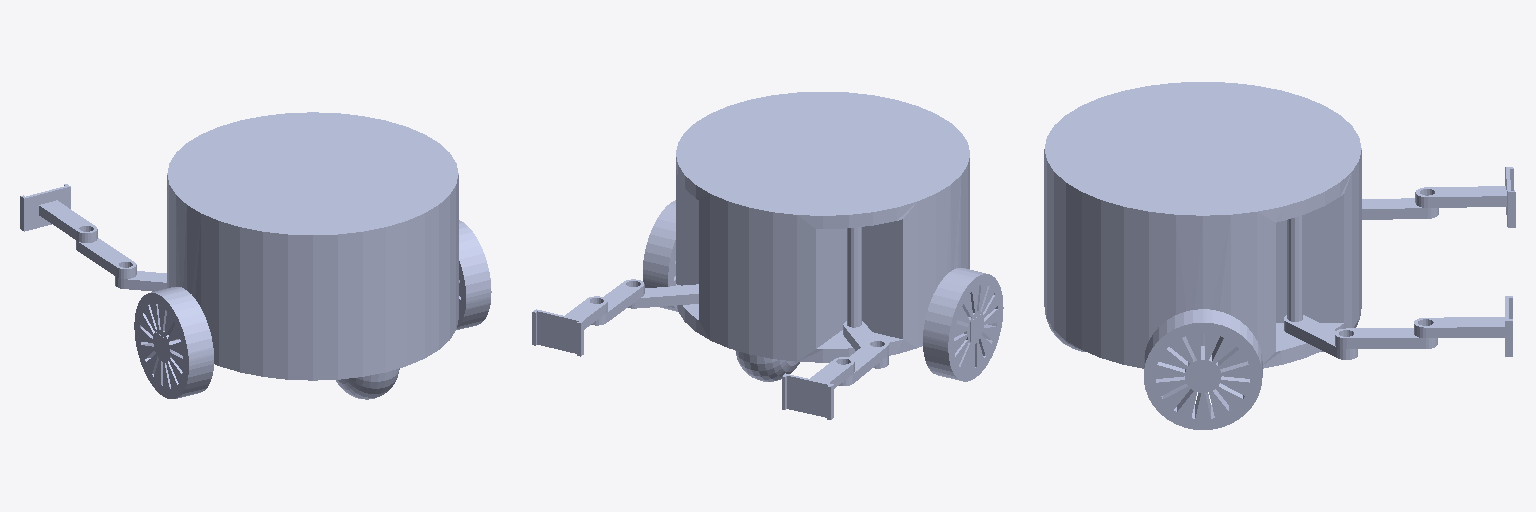
robot.urdf — URDF_bot_final_2:
<?xml version="1.0" encoding="utf-8"?>
<!-- This URDF was automatically created by SolidWorks to URDF Exporter! Originally created by [author] ([email redacted]) 
     Commit Version: 1.6.0-4-g7f85cfe  Build Version: 1.6.7995.38578
     For more information, please see http://wiki.ros.org/sw_urdf_exporter -->
<robot
  name="URDF_bot_final_2">
  <link
    name="base_link">
    <inertial>
      <origin
        xyz="8.60422844084496E-16 -0.00697001255399204 -0.113640401660277"
        rpy="0 0 0" />
      <mass
        value="26.8879845162854" />
      <inertia
        ixx="0.385139507707689"
        ixy="-3.51992200976601E-16"
        ixz="-9.6673037334202E-16"
        iyy="0.376289539605871"
        iyz="0.000682246181241517"
        izz="0.521493886642275" />
    </inertial>
    <visual>
      <origin
        xyz="0 0 0"
        rpy="0 0 0" />
      <geometry>
        <mesh
          filename="package://URDF_bot_final_2/meshes/base_link.STL" />
      </geometry>
      <material
        name="">
        <color
          rgba="0.792156862745098 0.819607843137255 0.933333333333333 1" />
      </material>
    </visual>
    <collision>
      <origin
        xyz="0 0 0"
        rpy="0 0 0" />
      <geometry>
        <mesh
          filename="package://URDF_bot_final_2/meshes/base_link.STL" />
      </geometry>
    </collision>
  </link>
  <link
    name="W_L">
    <inertial>
      <origin
        xyz="-1.11022302462516E-15 0.0202816466241088 5.55111512312578E-17"
        rpy="0 0 0" />
      <mass
        value="0.56046012382194" />
      <inertia
        ixx="0.000964865107374987"
        ixy="2.80987895356466E-18"
        ixz="-1.1664625765267E-19"
        iyy="0.00178033491000625"
        iyz="5.96074138738194E-19"
        izz="0.000964925835650445" />
    </inertial>
    <visual>
      <origin
        xyz="0 0 0"
        rpy="0 0 0" />
      <geometry>
        <mesh
          filename="package://URDF_bot_final_2/meshes/W_L.STL" />
      </geometry>
      <material
        name="">
        <color
          rgba="0.792156862745098 0.819607843137255 0.933333333333333 1" />
      </material>
    </visual>
    <collision>
      <origin
        xyz="0 0 0"
        rpy="0 0 0" />
      <geometry>
        <mesh
          filename="package://URDF_bot_final_2/meshes/W_L.STL" />
      </geometry>
    </collision>
  </link>
  <joint
    name="W_L_link"
    type="continuous">
    <origin
      xyz="-0.239999999999999 0 -0.205000000000002"
      rpy="-3.14159265358979 0 1.5707963267949" />
    <parent
      link="base_link" />
    <child
      link="W_L" />
    <axis
      xyz="0 1 0" />
  </joint>
  <link
    name="W_R">
    <inertial>
      <origin
        xyz="-5.55111512312578E-17 -0.0202816466241043 -4.16333634234434E-16"
        rpy="0 0 0" />
      <mass
        value="0.56046012382194" />
      <inertia
        ixx="0.000964865107374987"
        ixy="-3.09970833166368E-18"
        ixz="7.88018780428268E-20"
        iyy="0.00178033491000625"
        iyz="-1.25295594502704E-17"
        izz="0.000964925835650445" />
    </inertial>
    <visual>
      <origin
        xyz="0 0 0"
        rpy="0 0 0" />
      <geometry>
        <mesh
          filename="package://URDF_bot_final_2/meshes/W_R.STL" />
      </geometry>
      <material
        name="">
        <color
          rgba="0.792156862745098 0.819607843137255 0.933333333333333 1" />
      </material>
    </visual>
    <collision>
      <origin
        xyz="0 0 0"
        rpy="0 0 0" />
      <geometry>
        <mesh
          filename="package://URDF_bot_final_2/meshes/W_R.STL" />
      </geometry>
    </collision>
  </link>
  <joint
    name="W_R_link"
    type="continuous">
    <origin
      xyz="0.240000000000001 0 -0.204999999999999"
      rpy="-3.14159265358979 0 1.5707963267949" />
    <parent
      link="base_link" />
    <child
      link="W_R" />
    <axis
      xyz="0 -1 0" />
  </joint>
  <link
    name="P1_R">
    <inertial>
      <origin
        xyz="0.0074999999999997 0 0"
        rpy="0 0 0" />
      <mass
        value="0.0461780972450962" />
      <inertia
        ixx="5.12918276753618E-05"
        ixy="-1.24143784260085E-19"
        ixz="1.05369012081565E-20"
        iyy="4.60163160465626E-06"
        iyz="-4.44692297308508E-20"
        izz="4.84218747173967E-05" />
    </inertial>
    <visual>
      <origin
        xyz="0 0 0"
        rpy="0 0 0" />
      <geometry>
        <mesh
          filename="package://URDF_bot_final_2/meshes/P1_R.STL" />
      </geometry>
      <material
        name="">
        <color
          rgba="0.792156862745098 0.819607843137255 0.933333333333333 1" />
      </material>
    </visual>
    <collision>
      <origin
        xyz="0 0 0"
        rpy="0 0 0" />
      <geometry>
        <mesh
          filename="package://URDF_bot_final_2/meshes/P1_R.STL" />
      </geometry>
    </collision>
  </link>
  <joint
    name="P1_R_Link"
    type="prismatic">
    <origin
      xyz="0.154649736298411 0.148648533555594 -0.182094440280863"
      rpy="0.870370202775625 1.5707963267949 0" />
    <parent
      link="base_link" />
    <child
      link="P1_R" />
    <axis
      xyz="-1 0 0" />
    <limit
      lower="0"
      upper="0.15"
      effort="0"
      velocity="0" />
  </joint>
  <link
    name="R1_R">
    <inertial>
      <origin
        xyz="0.00750000000000009 0.05 5.55111512312578E-17"
        rpy="0 0 0" />
      <mass
        value="0.0461780972450962" />
      <inertia
        ixx="5.12918276753618E-05"
        ixy="1.7461282703913E-19"
        ixz="2.56580136426819E-21"
        iyy="4.60163160465626E-06"
        iyz="-1.0068607852118E-19"
        izz="4.84218747173967E-05" />
    </inertial>
    <visual>
      <origin
        xyz="0 0 0"
        rpy="0 0 0" />
      <geometry>
        <mesh
          filename="package://URDF_bot_final_2/meshes/R1_R.STL" />
      </geometry>
      <material
        name="">
        <color
          rgba="0.792156862745098 0.819607843137255 0.933333333333333 1" />
      </material>
    </visual>
    <collision>
      <origin
        xyz="0 0 0"
        rpy="0 0 0" />
      <geometry>
        <mesh
          filename="package://URDF_bot_final_2/meshes/R1_R.STL" />
      </geometry>
    </collision>
  </link>
  <joint
    name="R1_R_J"
    type="revolute">
    <origin
      xyz="0 0.0500000000000001 0"
      rpy="-2.26886705484522 0 3.14159265358979" />
    <parent
      link="P1_R" />
    <child
      link="R1_R" />
    <axis
      xyz="1 0 0" />
    <limit
      lower="-1.57"
      upper="0.78"
      effort="0"
      velocity="0" />
  </joint>
  <link
    name="R2_R">
    <inertial>
      <origin
        xyz="0.0231462742976176 -0.0659326410357274 0.000249370283456174"
        rpy="0 0 0" />
      <mass
        value="0.0668390486225481" />
      <inertia
        ixx="0.000100971656034691"
        ixy="1.60498639595143E-06"
        ixz="-2.3109653704175E-08"
        iyy="2.07628535797184E-05"
        iyz="6.19297276668896E-07"
        izz="9.08923415643615E-05" />
    </inertial>
    <visual>
      <origin
        xyz="0 0 0"
        rpy="0 0 0" />
      <geometry>
        <mesh
          filename="package://URDF_bot_final_2/meshes/R2_R.STL" />
      </geometry>
      <material
        name="">
        <color
          rgba="0.792156862745098 0.819607843137255 0.933333333333333 1" />
      </material>
    </visual>
    <collision>
      <origin
        xyz="0 0 0"
        rpy="0 0 0" />
      <geometry>
        <mesh
          filename="package://URDF_bot_final_2/meshes/R2_R.STL" />
      </geometry>
    </collision>
  </link>
  <joint
    name="R2_R_J"
    type="revolute">
    <origin
      xyz="0 0.1 0"
      rpy="-3.13374920384741 0 0" />
    <parent
      link="R1_R" />
    <child
      link="R2_R" />
    <axis
      xyz="1 0 0" />
    <limit
      lower="-0.52"
      upper="0.52"
      effort="0"
      velocity="0" />
  </joint>
  <link
    name="P2_L">
    <inertial>
      <origin
        xyz="0.00749999999999984 5.55111512312578E-17 2.77555756156289E-17"
        rpy="0 0 0" />
      <mass
        value="0.0461780972450962" />
      <inertia
        ixx="5.12918276753618E-05"
        ixy="9.29088277330331E-20"
        ixz="8.06265920000474E-21"
        iyy="4.60163160465626E-06"
        iyz="1.56701095242046E-20"
        izz="4.84218747173967E-05" />
    </inertial>
    <visual>
      <origin
        xyz="0 0 0"
        rpy="0 0 0" />
      <geometry>
        <mesh
          filename="package://URDF_bot_final_2/meshes/P2_L.STL" />
      </geometry>
      <material
        name="">
        <color
          rgba="0.792156862745098 0.819607843137255 0.933333333333333 1" />
      </material>
    </visual>
    <collision>
      <origin
        xyz="0 0 0"
        rpy="0 0 0" />
      <geometry>
        <mesh
          filename="package://URDF_bot_final_2/meshes/P2_L.STL" />
      </geometry>
    </collision>
  </link>
  <joint
    name="P2_L_link"
    type="prismatic">
    <origin
      xyz="-0.153814757931836 0.149613727495049 -0.181781659152969"
      rpy="2.29674794123281 1.5707963267949 0" />
    <parent
      link="base_link" />
    <child
      link="P2_L" />
    <axis
      xyz="-1 0 0" />
    <limit
      lower="0"
      upper="0.15"
      effort="0"
      velocity="0" />
  </joint>
  <link
    name="R1_L">
    <inertial>
      <origin
        xyz="0.00749999999999995 0.05 3.46944695195361E-18"
        rpy="0 0 0" />
      <mass
        value="0.0461780972450962" />
      <inertia
        ixx="5.12918276753618E-05"
        ixy="1.78121309247091E-19"
        ixz="-1.80996776417054E-22"
        iyy="4.60163160465626E-06"
        iyz="1.6675961149069E-21"
        izz="4.84218747173967E-05" />
    </inertial>
    <visual>
      <origin
        xyz="0 0 0"
        rpy="0 0 0" />
      <geometry>
        <mesh
          filename="package://URDF_bot_final_2/meshes/R1_L.STL" />
      </geometry>
      <material
        name="">
        <color
          rgba="0.792156862745098 0.819607843137255 0.933333333333333 1" />
      </material>
    </visual>
    <collision>
      <origin
        xyz="0 0 0"
        rpy="0 0 0" />
      <geometry>
        <mesh
          filename="package://URDF_bot_final_2/meshes/R1_L.STL" />
      </geometry>
    </collision>
  </link>
  <joint
    name="R1_L_J"
    type="revolute">
    <origin
      xyz="0 -0.0499999999999992 0"
      rpy="-0.801705358052037 0 3.14159265358979" />
    <parent
      link="P2_L" />
    <child
      link="R1_L" />
    <axis
      xyz="1 0 0" />
    <limit
      lower="-0.78"
      upper="1.57"
      effort="0"
      velocity="0" />
  </joint>
  <link
    name="R2_L">
    <inertial>
      <origin
        xyz="-0.0218537257023807 -0.0659326410357276 0.000249370283452909"
        rpy="0 0 0" />
      <mass
        value="0.0668390486225481" />
      <inertia
        ixx="0.000100971656034691"
        ixy="1.60498639595202E-06"
        ixz="-2.31096537041645E-08"
        iyy="2.07628535797184E-05"
        iyz="6.19297276668749E-07"
        izz="9.08923415643614E-05" />
    </inertial>
    <visual>
      <origin
        xyz="0 0 0"
        rpy="0 0 0" />
      <geometry>
        <mesh
          filename="package://URDF_bot_final_2/meshes/R2_L.STL" />
      </geometry>
      <material
        name="">
        <color
          rgba="0.792156862745098 0.819607843137255 0.933333333333333 1" />
      </material>
    </visual>
    <collision>
      <origin
        xyz="0 0 0"
        rpy="0 0 0" />
      <geometry>
        <mesh
          filename="package://URDF_bot_final_2/meshes/R2_L.STL" />
      </geometry>
    </collision>
  </link>
  <joint
    name="R2_L_link"
    type="revolute">
    <origin
      xyz="0 0.1 0"
      rpy="0.00784344973856893 0 -3.14159265358979" />
    <parent
      link="R1_L" />
    <child
      link="R2_L" />
    <axis
      xyz="1 0 0" />
    <limit
      lower="-0.52"
      upper="0.52"
      effort="0"
      velocity="0" />
  </joint>
</robot>

--- What the picture shows (computed from the rendered views, not written in the file) ---
The picture shows the robot from 3 angles, left to right: view 1: azimuth 30°, elevation 25°; view 2: azimuth 150°, elevation 25°; view 3: azimuth 270°, elevation 25°; orthographic projection.
Model URDF_bot_final_2 with 9 links and 8 joints (4 revolute, 2 continuous, 2 prismatic), rooted at base_link, posed every joint at zero.
Visible links, largest first — view 1: base_link, W_L, W_R, R2_L, R1_L, P2_L; view 2: base_link, W_L, R2_L, R2_R, W_R, P1_R, R1_R, R1_L, P2_L; view 3: base_link, W_R, R2_L, R2_R, R1_R, P1_R, R1_L.
Boxes of the visible links, x1,y1,x2,y2 form: base_link: (156, 112, 458, 399); W_L: (134, 287, 213, 398); W_R: (457, 220, 491, 329); R2_L: (20, 184, 97, 242); R1_L: (76, 238, 136, 278); P2_L: (115, 271, 166, 291); base_link: (676, 92, 981, 381); W_L: (923, 268, 1003, 381); R2_L: (782, 357, 854, 419); R2_R: (532, 296, 607, 356); W_R: (643, 200, 677, 311); P1_R: (628, 284, 698, 308); R1_R: (591, 279, 644, 325); R1_L: (839, 339, 888, 385); P2_L: (843, 321, 888, 368); base_link: (1044, 82, 1361, 386); W_R: (1144, 309, 1262, 429); R2_L: (1415, 167, 1515, 227); R2_R: (1414, 296, 1512, 356); R1_R: (1335, 328, 1437, 348); P1_R: (1284, 315, 1357, 359); R1_L: (1362, 198, 1438, 219).
Size in the robot's own frame: 0.48 by 0.5939 by 0.28 metres.
Meshes: 9 distinct files referenced, 9 mesh visuals loaded (9 binary STL).